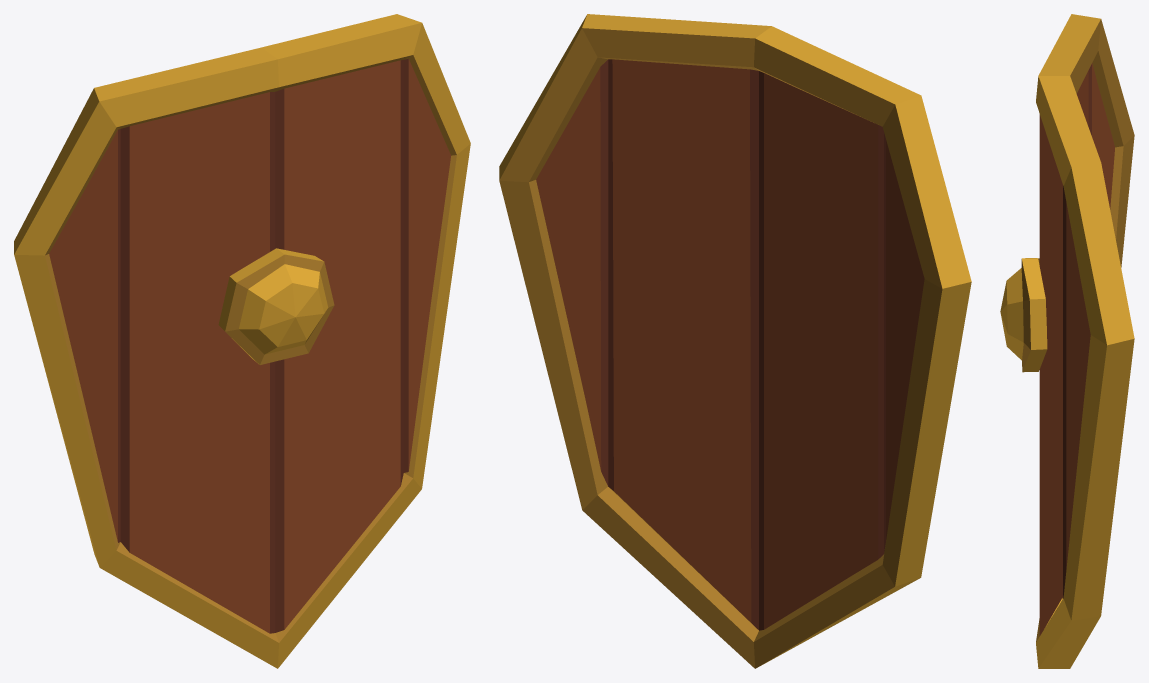
File: SM_MediumShield_B.fbx
The picture shows the model from 3 angles, left to right: view 1: azimuth 30°, elevation 25°; view 2: azimuth 150°, elevation 25°; view 3: azimuth 270°, elevation 25°; orthographic projection. The views are drawn at different scales.
Visible parts, largest first — view 1: SM_MediumShield_B; view 2: SM_MediumShield_B; view 3: SM_MediumShield_B.
Boxes of the visible parts, <box> form: SM_MediumShield_B: <box>14,14,470,668</box>; SM_MediumShield_B: <box>499,14,971,668</box>; SM_MediumShield_B: <box>1000,14,1134,668</box>.
Bounding box in the file's own units: 0.8563 × 1.09 × 0.224.
